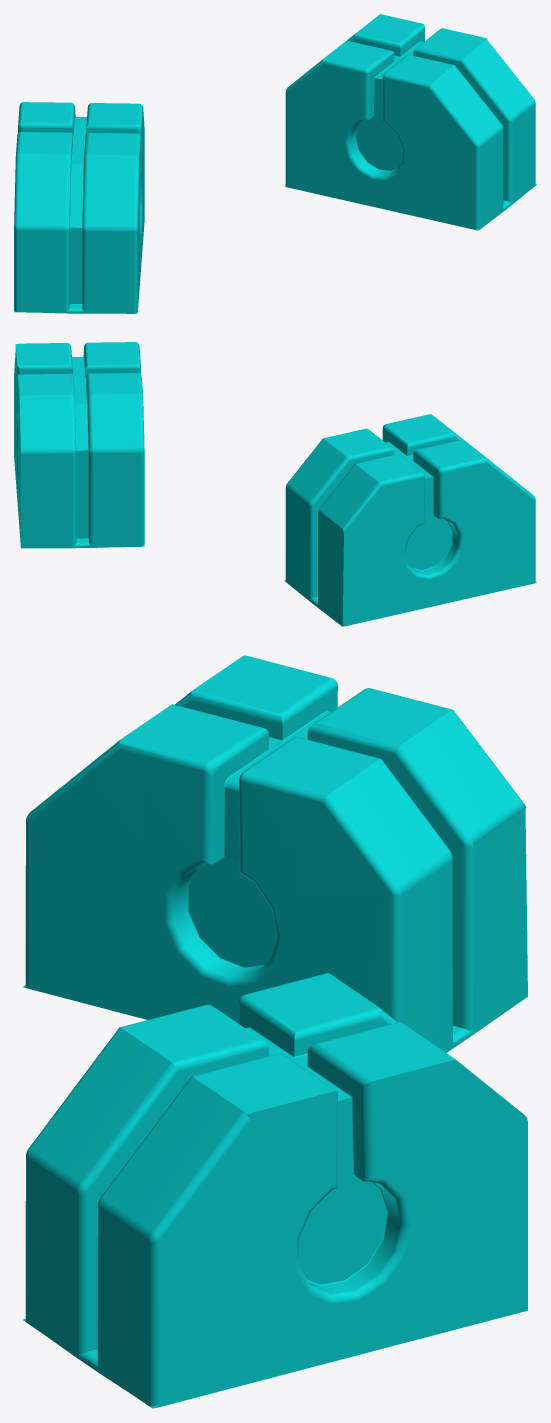
Rendered from cajashigh.fbx.
The picture shows the model from 3 angles, top to bottom: view 1: azimuth 30°, elevation 25°; view 2: azimuth 150°, elevation 25°; view 3: azimuth 270°, elevation 25°; orthographic projection. The views are drawn at different scales.
Parts seen in each view (by area): view 1: cajas_high; view 2: cajas_high; view 3: cajas_high.
Boxes of the visible parts, left/top/right/bottom form: cajas_high: left=14, top=14, right=536, bottom=313; cajas_high: left=14, top=342, right=536, bottom=626; cajas_high: left=23, top=655, right=527, bottom=1408.
Size of the model in its own units: 19.09 by 4.73 by 7.98.
